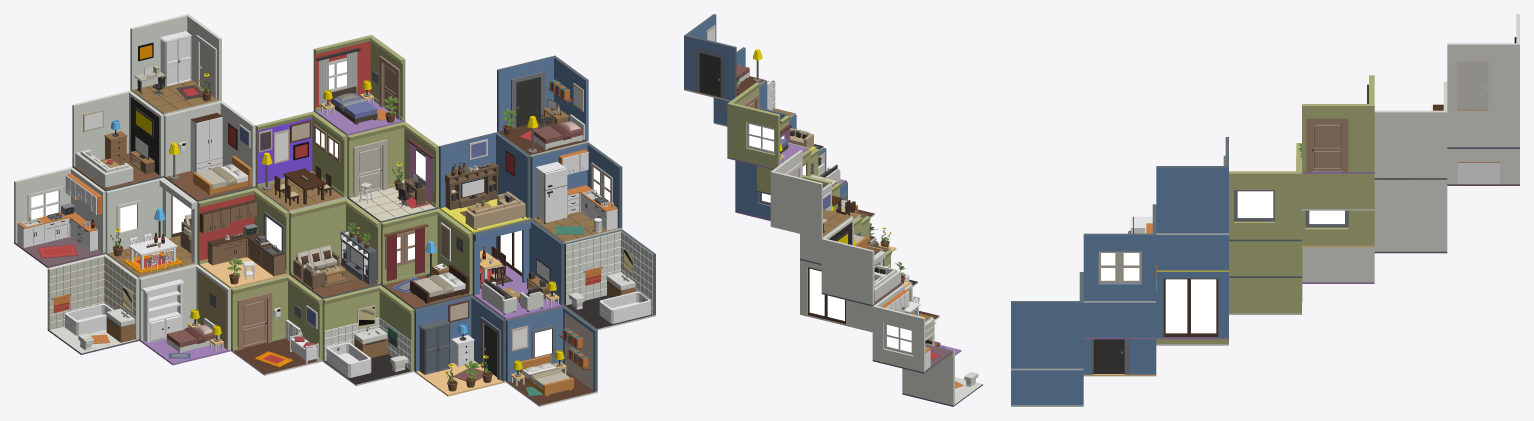
Rendered from Map_5.gltf.
The picture shows the model from 3 angles, left to right: view 1: azimuth 30°, elevation 25°; view 2: azimuth 150°, elevation 25°; view 3: azimuth 270°, elevation 25°; orthographic projection. The views are drawn at different scales.
Visible parts, largest first — view 1: SM_Wall_2_69_StaticMeshComponent0, SM_Wall_1_124_StaticMeshComponent0, SM_Wall_4_36_StaticMeshComponent0, SM_Wall_1_94_StaticMeshComponent0, SM_Wall_4_20_StaticMeshComponent0, SM_Wall_1_107_StaticMeshComponent0, SM_Wall_4_3_StaticMeshComponent0, SM_Wall_2_81_StaticMeshComponent0, SM_Wall_4_39_StaticMeshComponent0, SM_Wall_2_48_StaticMeshComponent0, SM_Wall_1_121_StaticMeshComponent0, SM_Wall_1_91_StaticMeshComponent0 (+79 smaller); view 2: SM_Wall_1_94_StaticMeshComponent0, SM_Wall_1_104_StaticMeshComponent0, SM_Wall_4_2_StaticMeshComponent0, SM_Wall_1_115_StaticMeshComponent0, SM_Wall_2_63_StaticMeshComponent0, SM_Wall_1_124_StaticMeshComponent0, SM_Wall_2_19_StaticMeshComponent0, SM_Door_1B_43_StaticMeshComponent0, SM_Window_30_StaticMeshComponent0, SM_Window_2A2_40_StaticMeshComponent0, SM_Window_2A_2_StaticMeshComponent0, SM_Wall_1_107_StaticMeshComponent0 (+13 smaller); view 3: SM_Wall_1_91_StaticMeshComponent0, SM_Wall_2_69_StaticMeshComponent0, SM_Wall_2_63_StaticMeshComponent0, SM_Wall_1_110_StaticMeshComponent0, SM_Wall_4_11_StaticMeshComponent0, SM_Wall_2_51_StaticMeshComponent0, SM_Window_23_StaticMeshComponent0, SM_Wall_1_104_StaticMeshComponent0, SM_Wall_4_2_StaticMeshComponent0, SM_Wall_2_66_StaticMeshComponent0, SM_Wall_4_3_StaticMeshComponent0, SM_Wall_4_20_StaticMeshComponent0 (+15 smaller).
Boxes of the visible parts, <box> form: SM_Wall_2_69_StaticMeshComponent0: <box>564,229,655,315</box>; SM_Wall_1_124_StaticMeshComponent0: <box>47,254,139,339</box>; SM_Wall_4_36_StaticMeshComponent0: <box>322,285,414,370</box>; SM_Wall_1_94_StaticMeshComponent0: <box>72,90,163,176</box>; SM_Wall_4_20_StaticMeshComponent0: <box>289,198,380,284</box>; SM_Wall_1_107_StaticMeshComponent0: <box>105,177,197,263</box>; SM_Wall_4_3_StaticMeshComponent0: <box>255,111,347,197</box>; SM_Wall_2_81_StaticMeshComponent0: <box>506,306,597,391</box>; SM_Wall_4_39_StaticMeshComponent0: <box>231,275,322,360</box>; SM_Wall_2_48_StaticMeshComponent0: <box>439,132,530,217</box>; SM_Wall_1_121_StaticMeshComponent0: <box>139,264,230,350</box>; SM_Wall_1_91_StaticMeshComponent0: <box>164,101,255,186</box>; SM_Wall_1_94_StaticMeshComponent0: <box>821,217,874,304</box>; SM_Wall_1_104_StaticMeshComponent0: <box>770,150,822,237</box>; SM_Wall_4_2_StaticMeshComponent0: <box>727,82,780,168</box>; SM_Wall_1_115_StaticMeshComponent0: <box>872,285,925,372</box>; SM_Wall_2_63_StaticMeshComponent0: <box>684,14,736,100</box>; SM_Wall_1_124_StaticMeshComponent0: <box>902,318,954,405</box>; SM_Wall_2_19_StaticMeshComponent0: <box>735,160,770,219</box>; SM_Door_1B_43_StaticMeshComponent0: <box>695,48,724,98</box>; SM_Window_30_StaticMeshComponent0: <box>808,267,845,324</box>; SM_Window_2A2_40_StaticMeshComponent0: <box>884,322,913,355</box>; SM_Window_2A_2_StaticMeshComponent0: <box>747,122,774,154</box>; SM_Wall_1_107_StaticMeshComponent0: <box>851,251,903,330</box>; SM_Wall_1_91_StaticMeshComponent0: <box>1374,81,1447,177</box>; SM_Wall_2_69_StaticMeshComponent0: <box>1011,272,1083,368</box>; SM_Wall_2_63_StaticMeshComponent0: <box>1156,137,1228,233</box>; SM_Wall_1_110_StaticMeshComponent0: <box>1374,179,1447,245</box>; SM_Wall_4_11_StaticMeshComponent0: <box>1229,143,1301,239</box>; SM_Wall_2_51_StaticMeshComponent0: <box>1083,204,1156,300</box>; SM_Window_23_StaticMeshComponent0: <box>1163,278,1218,337</box>; SM_Wall_1_104_StaticMeshComponent0: <box>1447,14,1519,110</box>; SM_Wall_4_2_StaticMeshComponent0: <box>1302,75,1374,171</box>; SM_Wall_2_66_StaticMeshComponent0: <box>1083,302,1156,337</box>; SM_Wall_4_3_StaticMeshComponent0: <box>1302,173,1374,208</box>; SM_Wall_4_20_StaticMeshComponent0: <box>1229,241,1301,276</box>.
Size of the model in its own units: 28 by 16.4 by 28.
